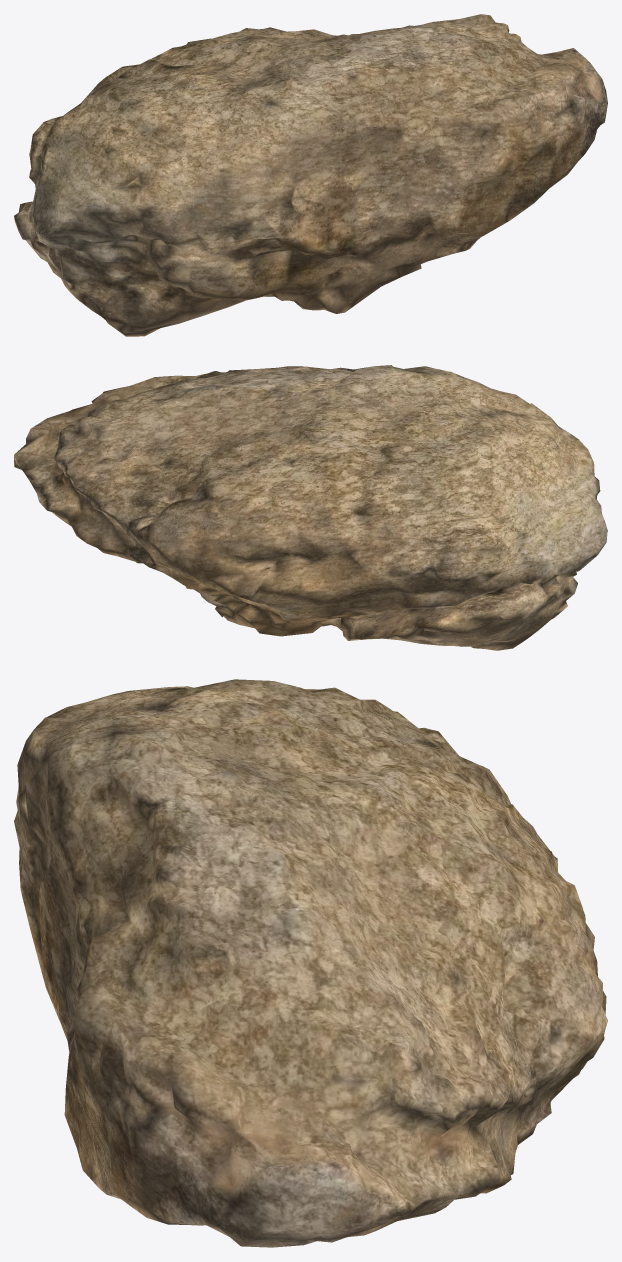
File: boulder_c.glb
The picture shows the model from 3 angles, top to bottom: view 1: azimuth 30°, elevation 25°; view 2: azimuth 150°, elevation 25°; view 3: azimuth 270°, elevation 25°; orthographic projection. The views are drawn at different scales.
Visible parts, largest first — view 1: namaqualand_boulder_05; view 2: namaqualand_boulder_05; view 3: namaqualand_boulder_05.
Boxes of the visible parts, x1,y1,x2,y2 form: namaqualand_boulder_05: (14, 14, 607, 336); namaqualand_boulder_05: (14, 365, 607, 650); namaqualand_boulder_05: (14, 679, 607, 1247).
Bounding box in the file's own units: 1.36 × 0.5337 × 0.7481.
1 material, 1 textured.
